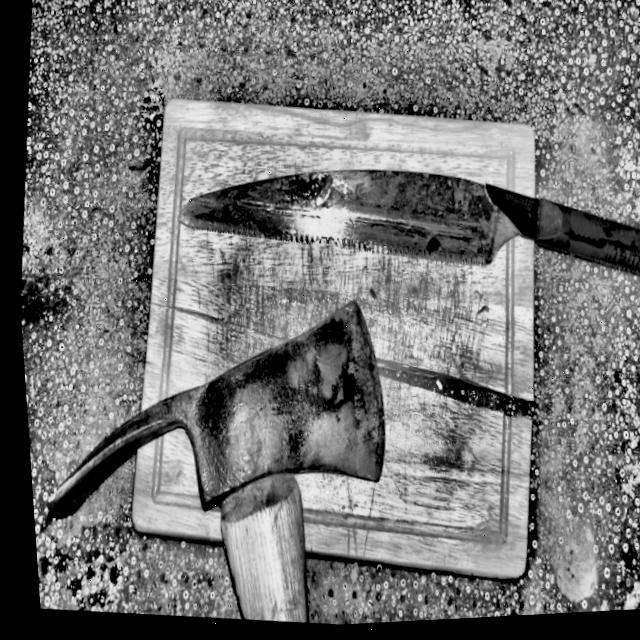kapak: (179, 291, 392, 621)
